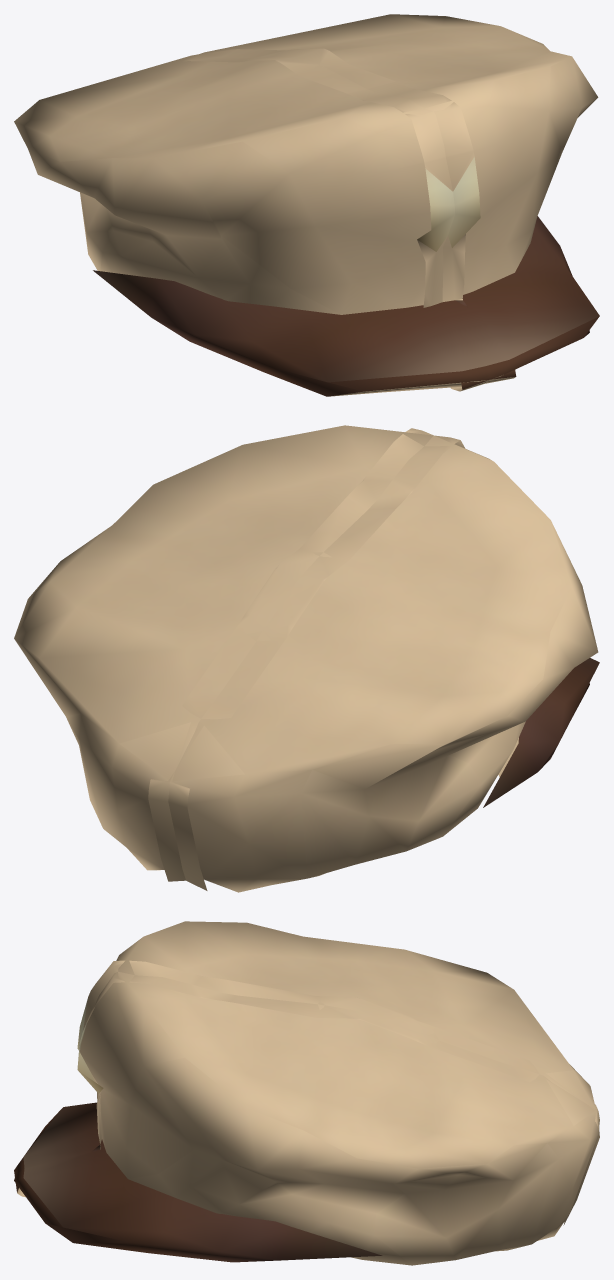
The model's file is helmet_cap_01.dae.
3 renders of one model, top to bottom at view 1: azimuth 30°, elevation 25°; view 2: azimuth 150°, elevation 25°; view 3: azimuth 270°, elevation 25°, orthographic. The views are drawn at different scales.
Parts seen in each view (by area): view 1: Mesh1; view 2: Mesh1; view 3: Mesh1.
Boxes of the visible parts, box(x1,y1,x2,y2) form: Mesh1: box(14, 14, 599, 396); Mesh1: box(14, 425, 599, 892); Mesh1: box(14, 921, 599, 1265).
Size of the model in its own units: 0.5746 by 0.6595 by 0.3078.
